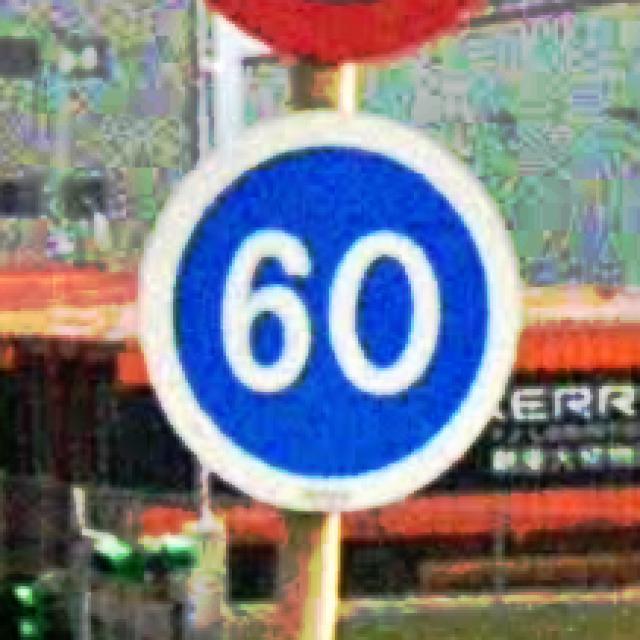min60: (132, 105, 526, 514)
